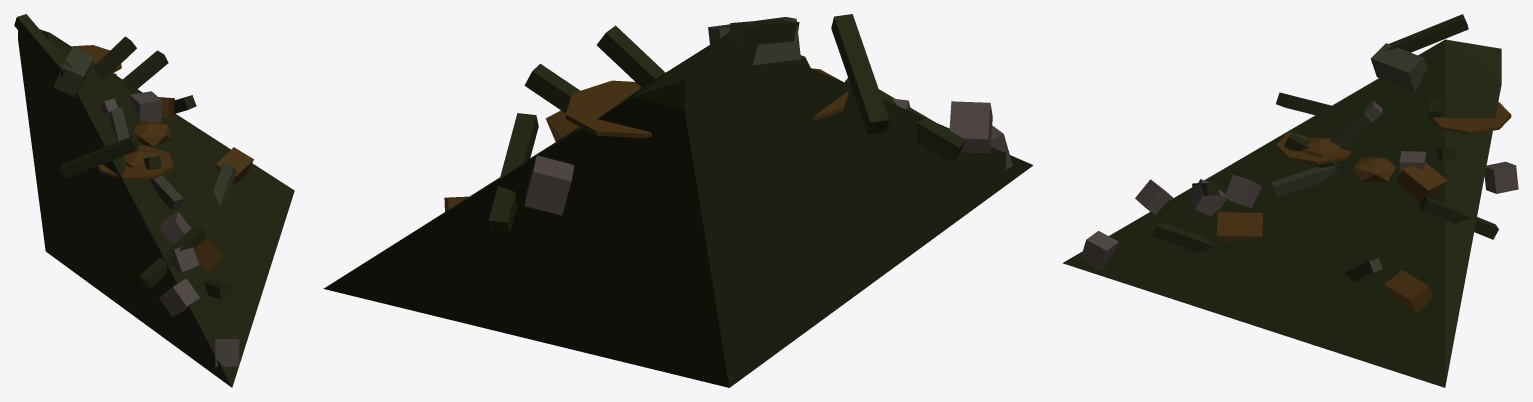
Rendered from SM_PilaZombi_RemateDer_Altura5_s2_LOD1.fbx.
3 renders of one model, left to right at view 1: azimuth 30°, elevation 25°; view 2: azimuth 150°, elevation 25°; view 3: azimuth 270°, elevation 25°, orthographic. The views are drawn at different scales.
Parts seen in each view (by area): view 1: SM_pila_zombis_v14_LOD1; view 2: SM_pila_zombis_v14_LOD1; view 3: SM_pila_zombis_v14_LOD1.
Part boxes in pixels (bbox=[...]): SM_pila_zombis_v14_LOD1: bbox=[14, 14, 294, 387]; SM_pila_zombis_v14_LOD1: bbox=[323, 14, 1033, 387]; SM_pila_zombis_v14_LOD1: bbox=[1062, 14, 1518, 387].
Bounding box in the file's own units: 3.35 × 2.56 × 4.44.
